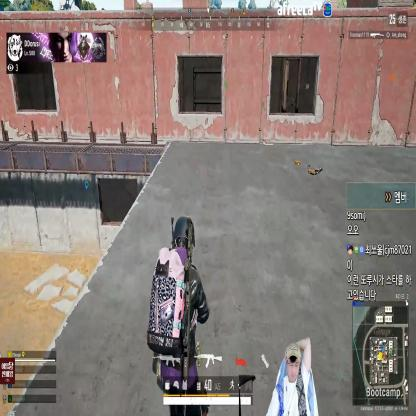streamer: (265, 337, 312, 416)
